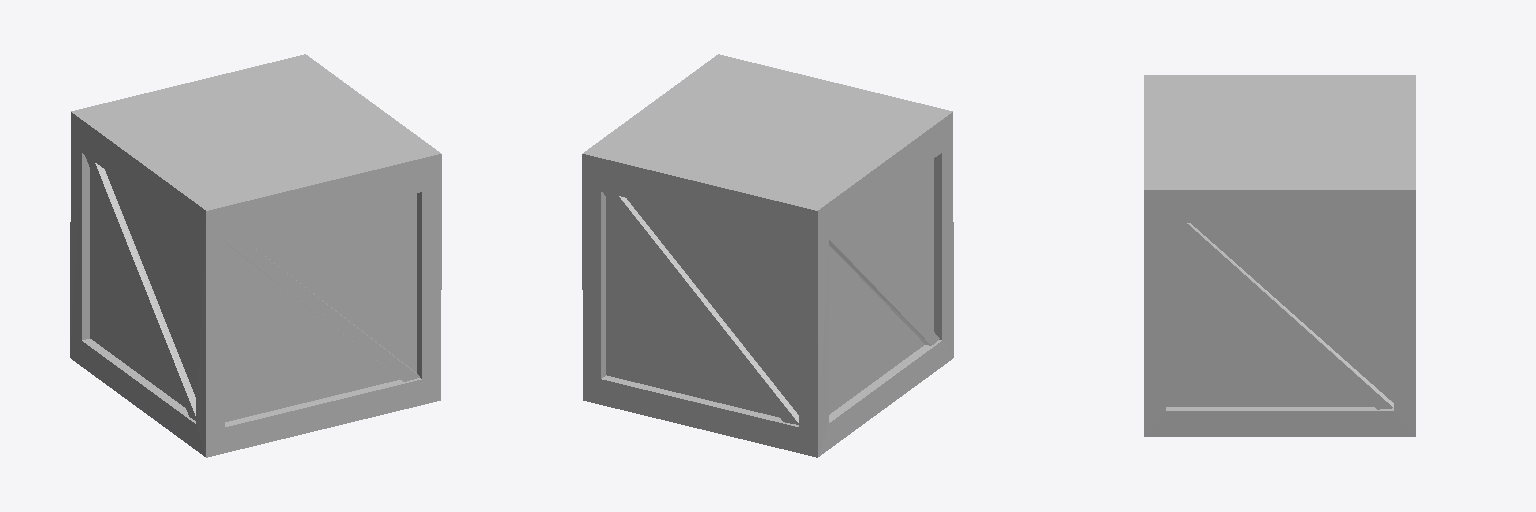
Rendered from Wooden_box_v1_LD2square.obj.
3 views of the same model, side by side, from view 1: azimuth 30°, elevation 25°; view 2: azimuth 150°, elevation 25°; view 3: azimuth 270°, elevation 25° (orthographic).
Visible parts, largest first — view 1: Wooden_box_v1_LD2square_0; view 2: Wooden_box_v1_LD2square_0; view 3: Wooden_box_v1_LD2square_0.
Boxes of the visible parts, x1,y1,x2,y2 form: Wooden_box_v1_LD2square_0: [70, 54, 441, 457]; Wooden_box_v1_LD2square_0: [582, 54, 953, 457]; Wooden_box_v1_LD2square_0: [1144, 75, 1415, 436].
Size of the model in its own units: 0.8108 by 0.8124 by 0.8108.